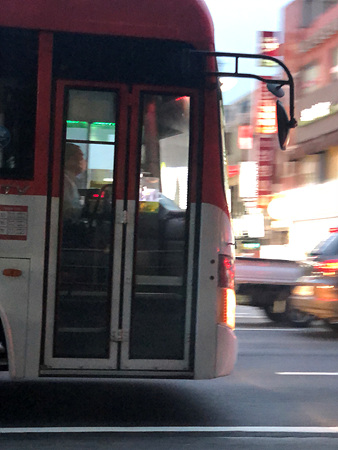entrance: (46, 79, 195, 368)
